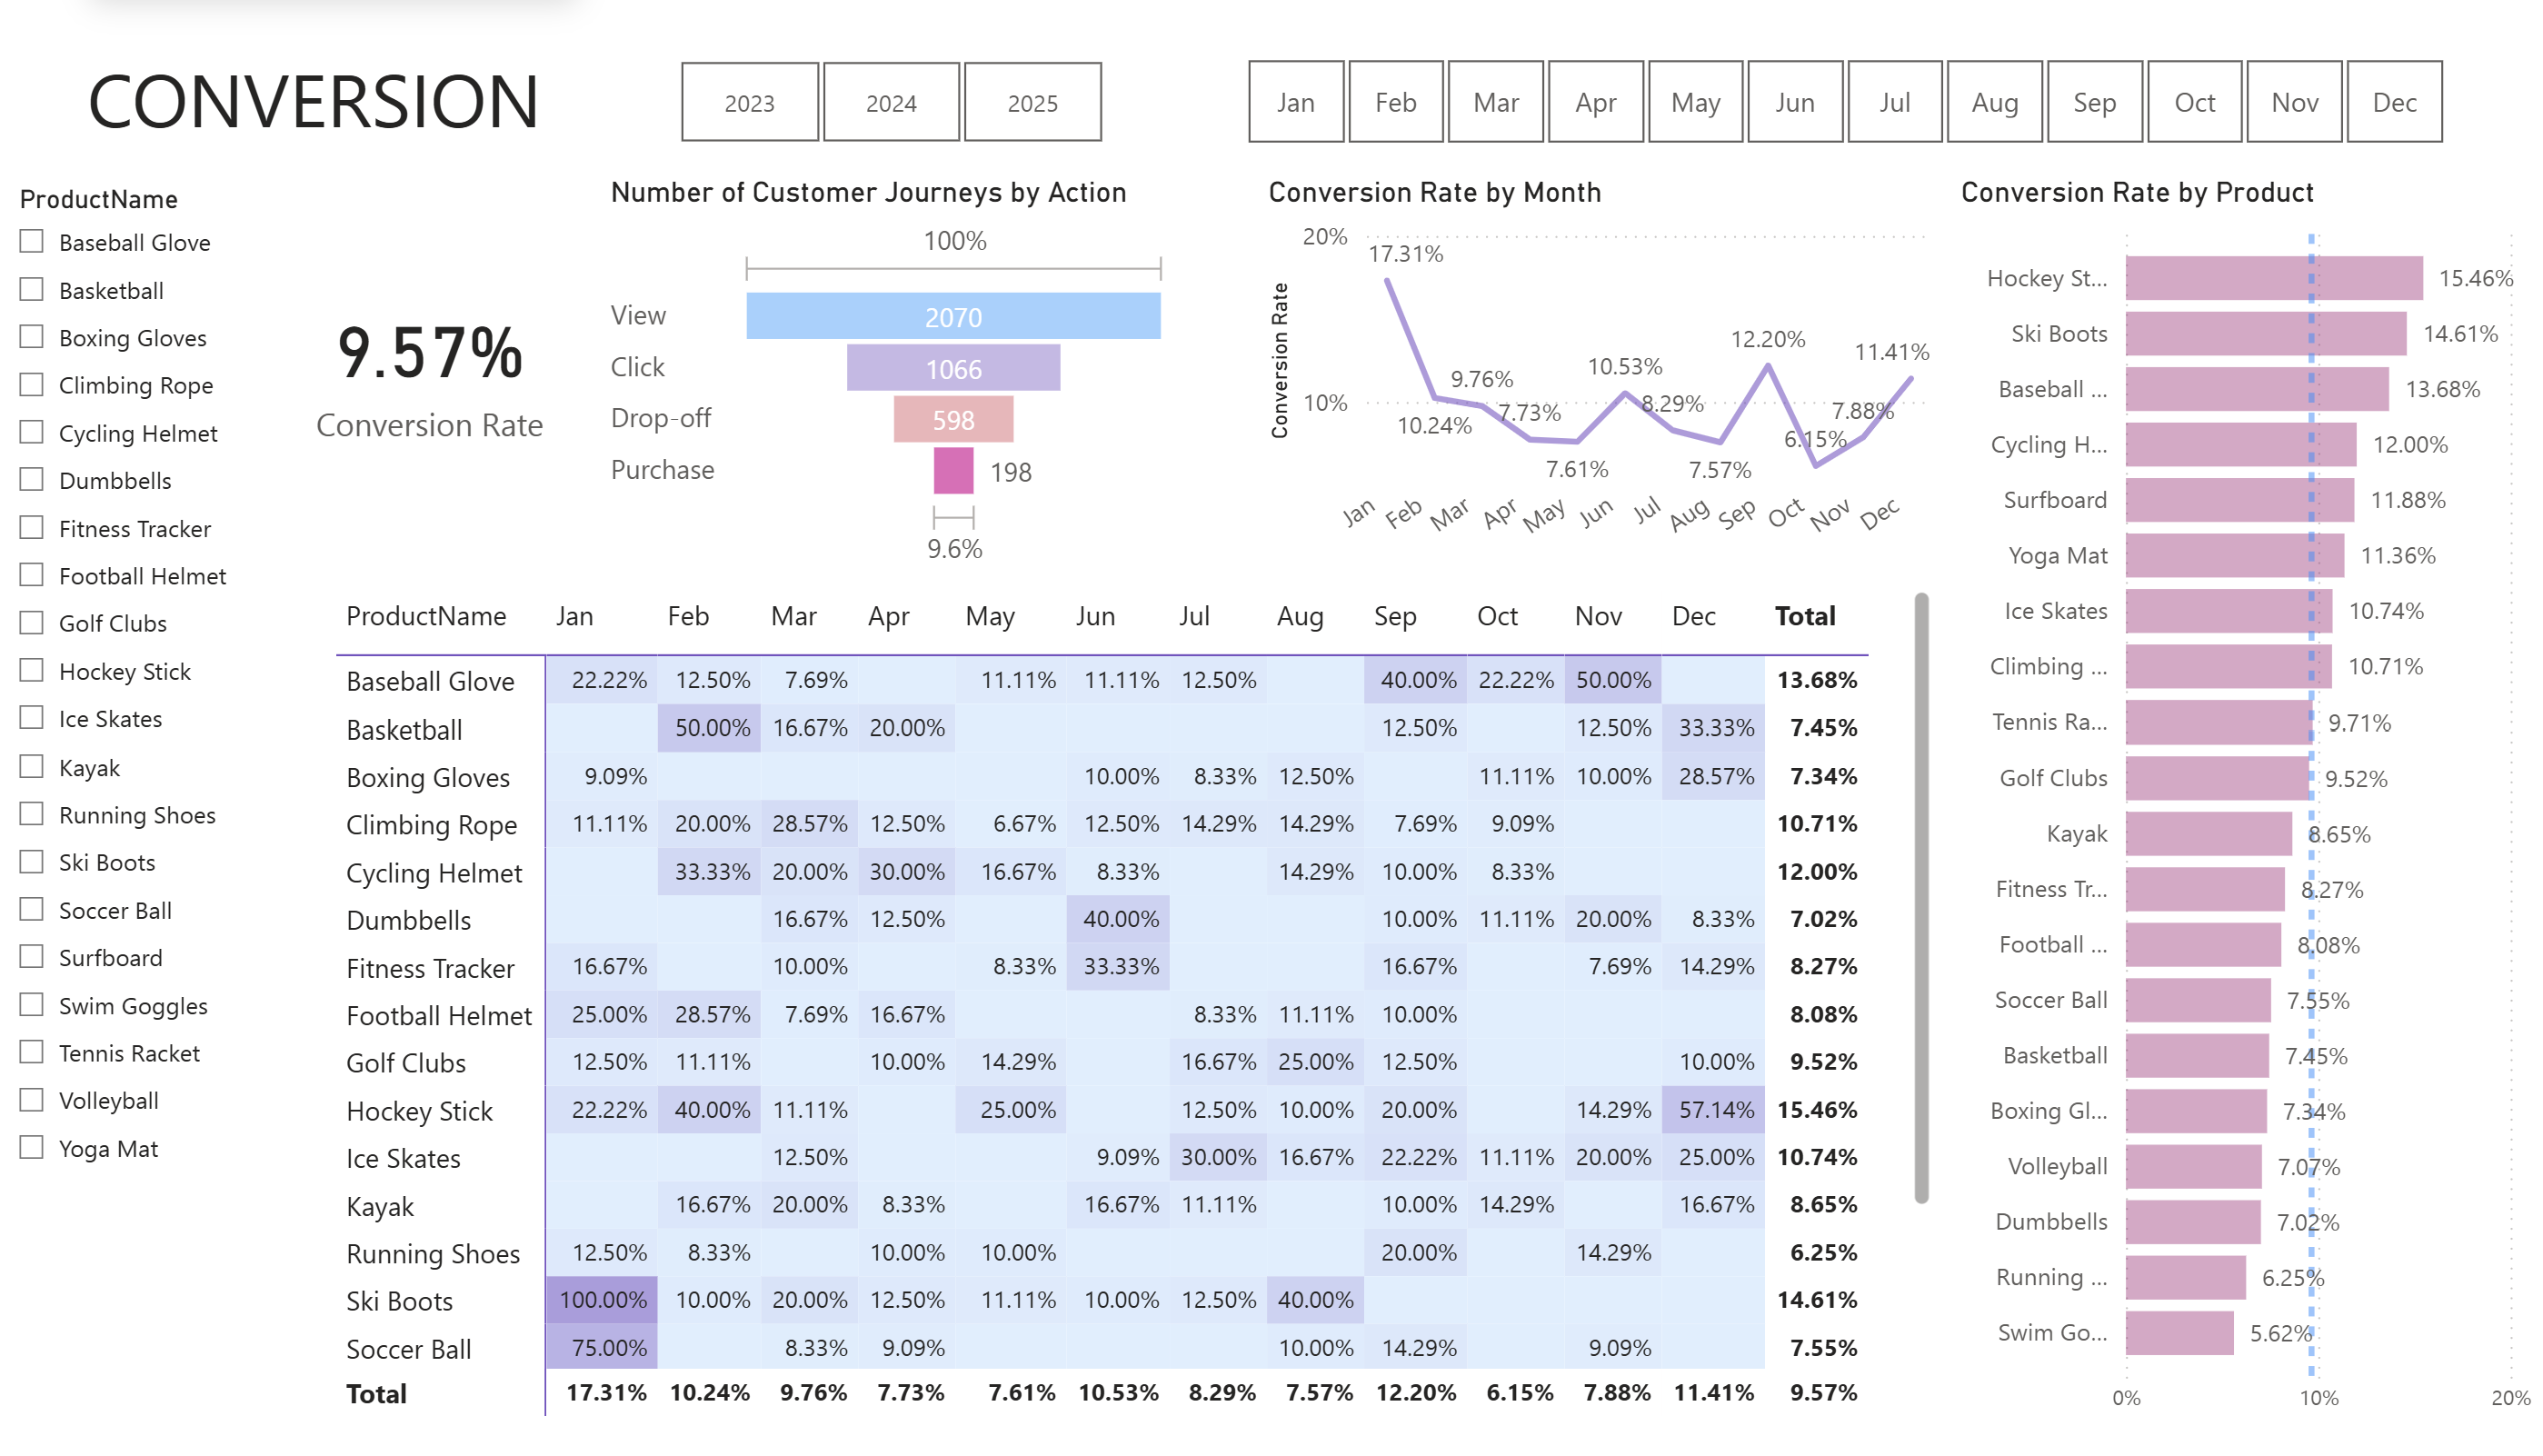

The dashboard page shown, as its layout file describes it:
{"tool":"powerbi","page":{"name":"conversion","canvas":[1286,723],"ordinal":1},"visuals":[{"type":"slicer","fields":{"Values":["Calendar.Year"]},"box":[321,27,262,54],"z":0},{"type":"textbox","box":[14,21,306,69],"z":1000},{"type":"slicer","fields":{"Values":["dim_products.ProductName"]},"box":[0,90,164,613],"z":2000},{"type":"card","fields":{"Values":["_calculations (2).Conversion Rate"]},"box":[144,90,152,195],"z":3000},{"type":"slicer","fields":{"Values":["Calendar.MonthNameShort"]},"box":[606,25.3,651.8,55.4],"z":4000},{"type":"lineChart","title":"Conversion Rate by Month","fields":{"Y":["_calculations (2).Conversion Rate"],"Category":["Calendar.MonthNameShort"]},"box":[637.7,90.3,343.3,203],"z":5000},{"type":"clusteredBarChart","title":"Conversion Rate by Product","fields":{"Category":["dim_products.ProductName"],"Y":["_calculations (2).Conversion Rate"]},"box":[986.3,90.3,299.7,632.4],"z":6000},{"type":"funnel","fields":{"Category":["fact_customer_journey.Action"],"Y":["_calculations (2).Number of Customer Journeys"]},"box":[306.1,90.3,292.3,203],"z":7000},{"type":"pivotTable","fields":{"Rows":["dim_products.ProductName"],"Values":["_calculations (2).Conversion Rate"],"Columns":["Calendar.MonthNameShort"]},"box":[167.5,295.2,813.3,425.3],"z":8000}]}

Visuals, with their boxes in screenshot pixels (x1, y1, x2, y2), scaled from the page's 1286x723 canvas onto the 2543x1456 screenshot:
slicer - Calendar.Year: box(634, 55, 1152, 163)
textbox: box(27, 43, 633, 181)
slicer - dim_products.ProductName: box(0, 181, 324, 1416)
card - _calculations (2).Conversion Rate: box(284, 181, 585, 573)
slicer - Calendar.MonthNameShort: box(1198, 51, 2488, 163)
"Conversion Rate by Month" lineChart: box(1261, 182, 1940, 591)
"Conversion Rate by Product" clusteredBarChart: box(1950, 182, 2542, 1455)
funnel - fact_customer_journey.Action x _calculations (2).Number of Customer Journeys: box(605, 182, 1183, 591)
pivotTable - dim_products.ProductName x _calculations (2).Conversion Rate: box(331, 594, 1940, 1451)
